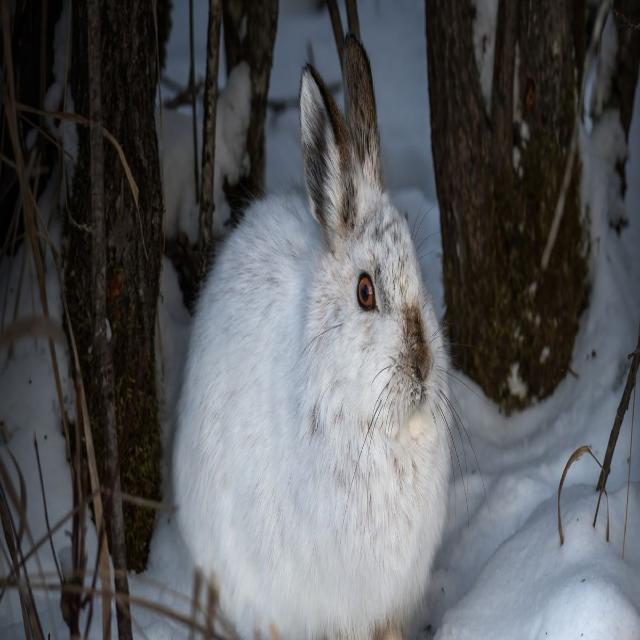Hare: (185, 31, 456, 640)
